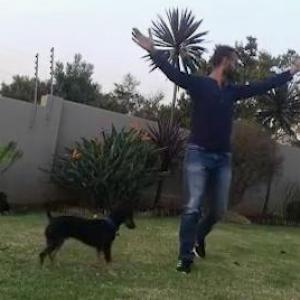takeoff: (123, 19, 299, 277)
